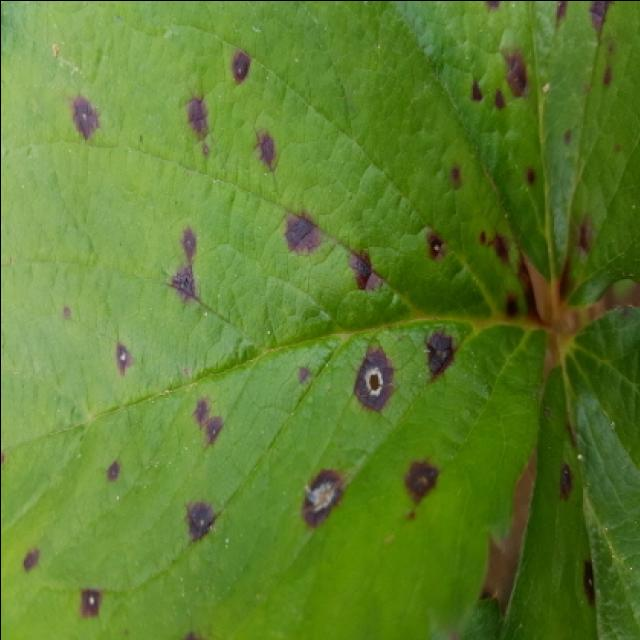Leaf Spot: (0, 2, 545, 640), (399, 2, 638, 309), (493, 301, 638, 640)
